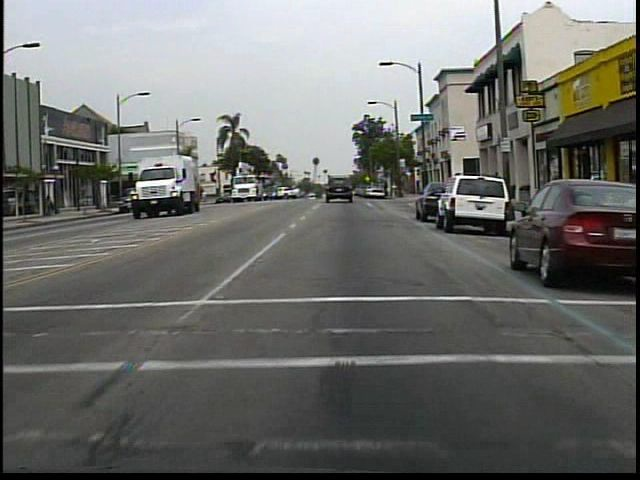person: (46, 192, 55, 218)
